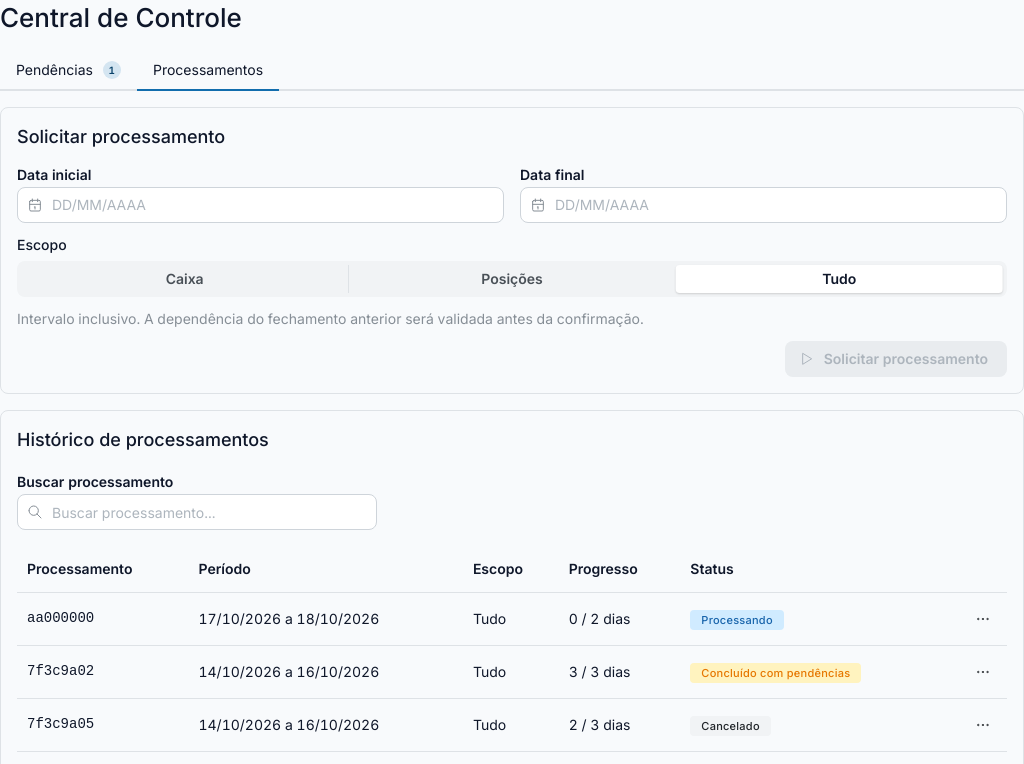
Test: Processamentos: cancel (§10.2) › §10.2 OQ-23 OQ-46 cancels a running job cooperatively: Cancelando, then Cancelado
Click the button named "Ações do processamento".
click(983, 619)  # box [969, 605, 997, 633]
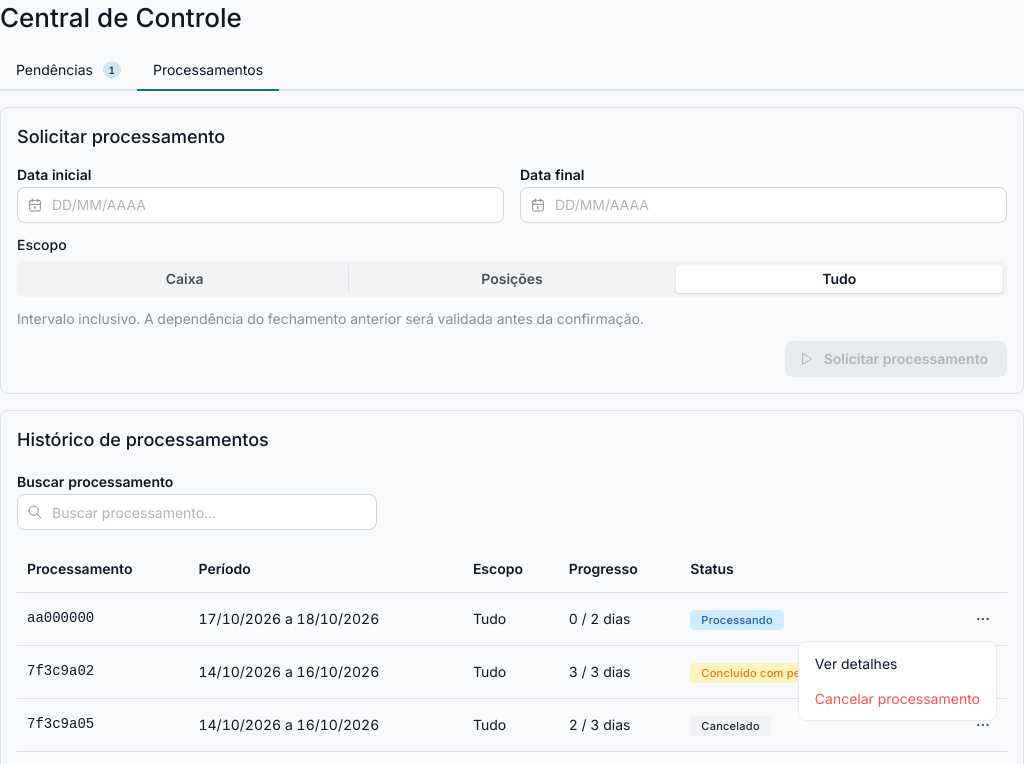
Click the menu item "Cancelar processamento".
click(897, 698)  # box [803, 681, 992, 716]
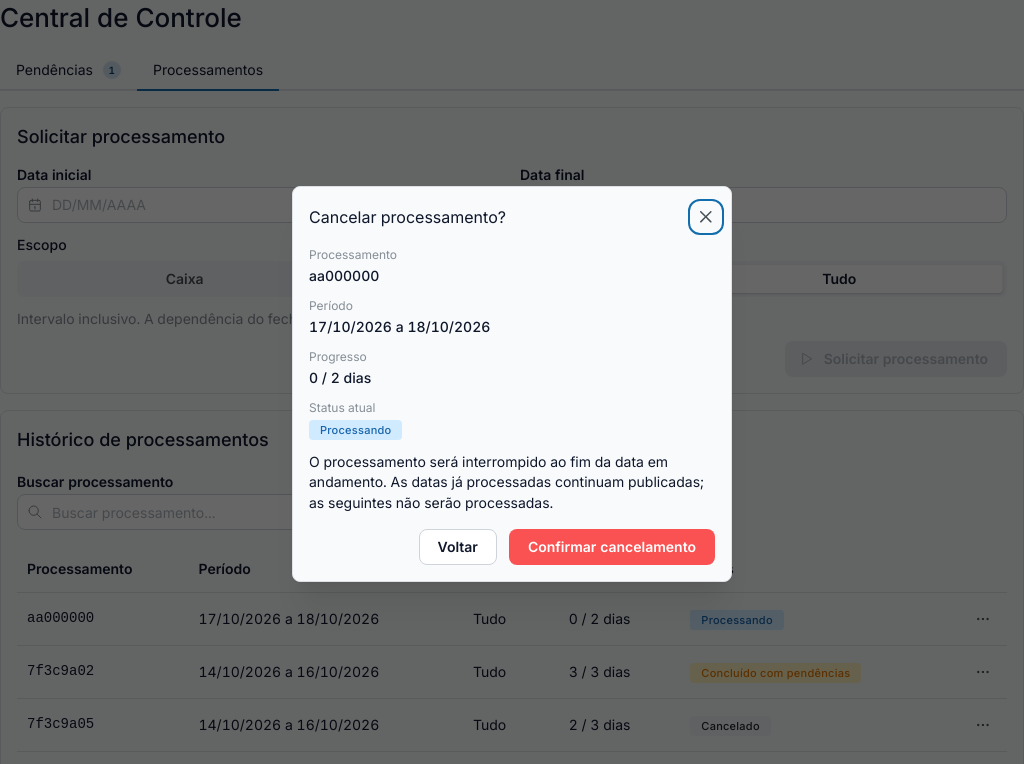
Result: the text "O processamento será interrompido ao fim da data em andamento. As datas já processadas continuam publicadas; as seguinte" is shown at [309, 453, 704, 511]
Click the button "Confirmar cancelamento".
click(612, 547)  # box [509, 529, 715, 565]
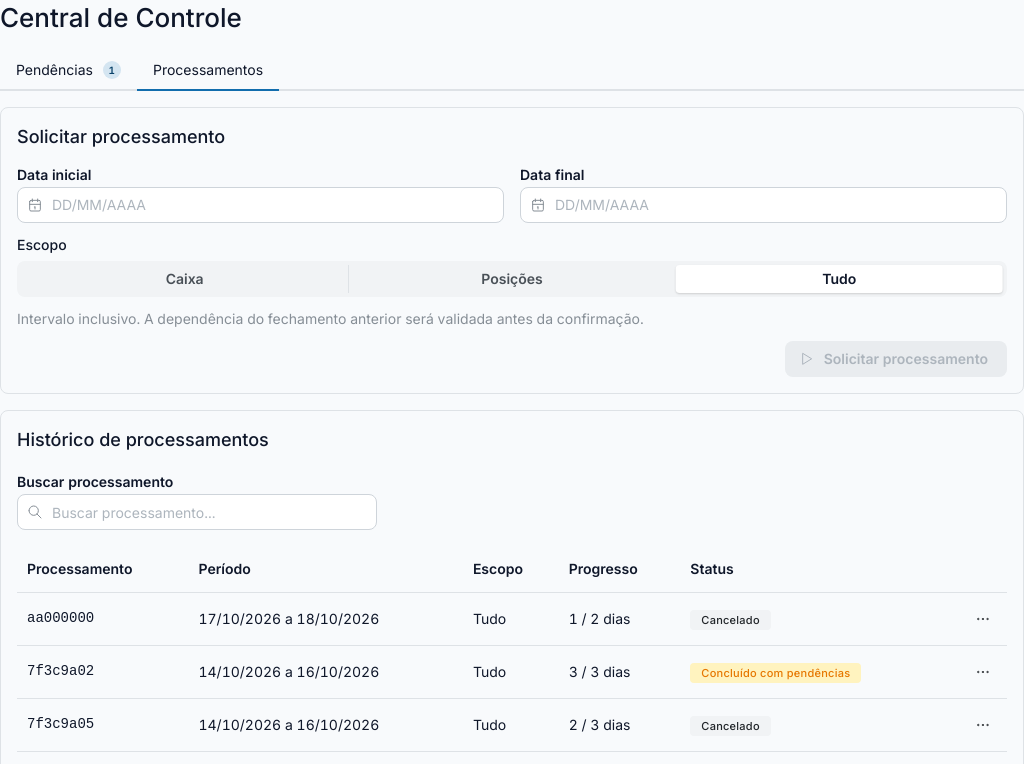
Result: the text "Processando" is gone
